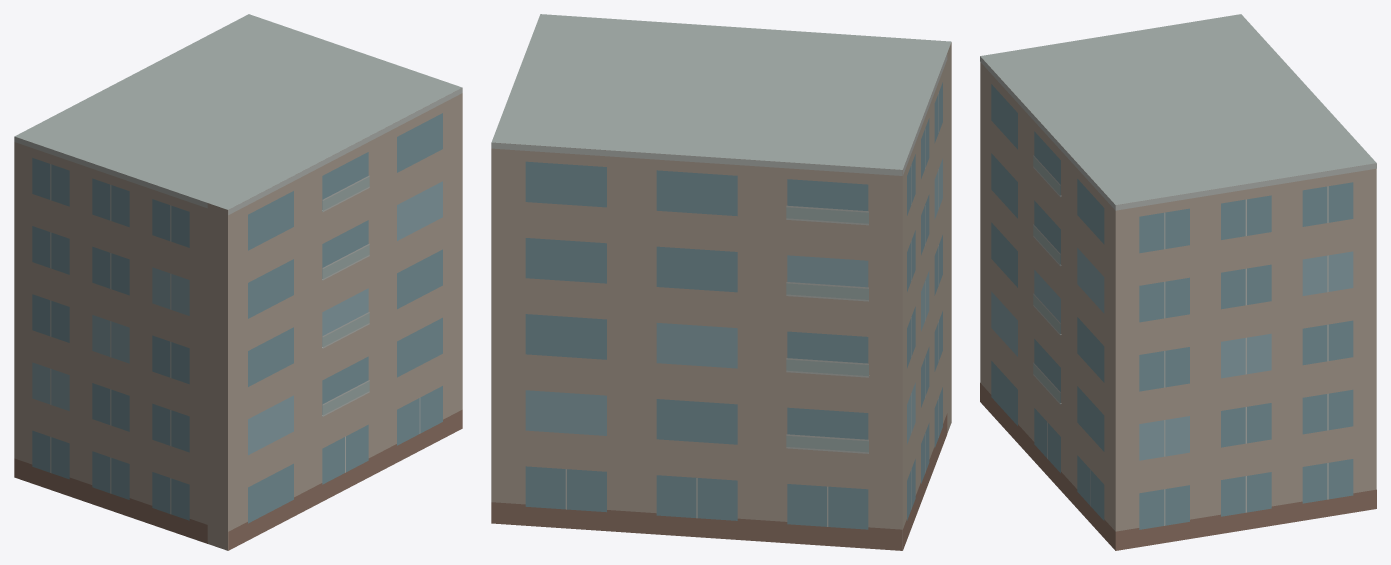
Rendered from survey-upis-32850455.glb.
3 views of the same model, side by side, from view 1: azimuth 30°, elevation 25°; view 2: azimuth 150°, elevation 25°; view 3: azimuth 270°, elevation 25° (orthographic). The views are drawn at different scales.
Visible parts, largest first — view 1: survey-upis-32850455.tmp; view 2: survey-upis-32850455.tmp; view 3: survey-upis-32850455.tmp.
Boxes of the visible parts, left/top/right/bottom form: survey-upis-32850455.tmp: left=14, top=14, right=462, bottom=550; survey-upis-32850455.tmp: left=491, top=14, right=951, bottom=550; survey-upis-32850455.tmp: left=980, top=14, right=1376, bottom=550.
Size of the model in its own units: 18.09 by 15.25 by 15.87.
